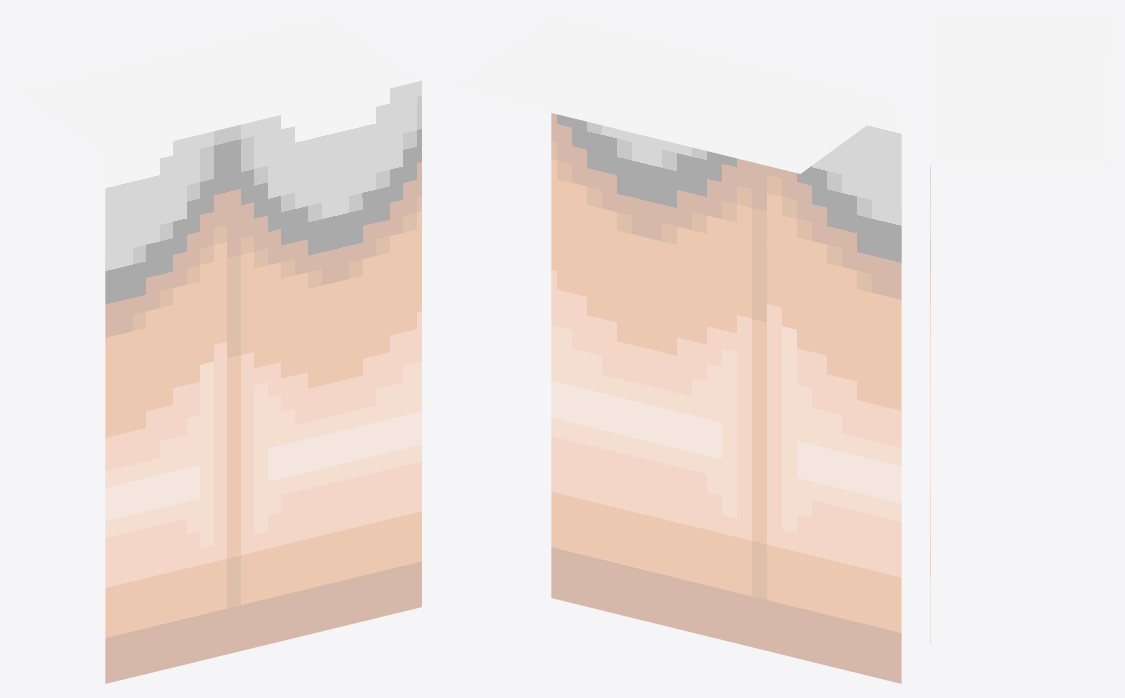
The picture shows the model from 3 angles, left to right: view 1: azimuth 30°, elevation 25°; view 2: azimuth 150°, elevation 25°; view 3: azimuth 270°, elevation 25°; orthographic projection. The views are drawn at different scales.
Size of the model in its own units: 1 by 1.59 by 0.5021.
1 material, 1 textured.
